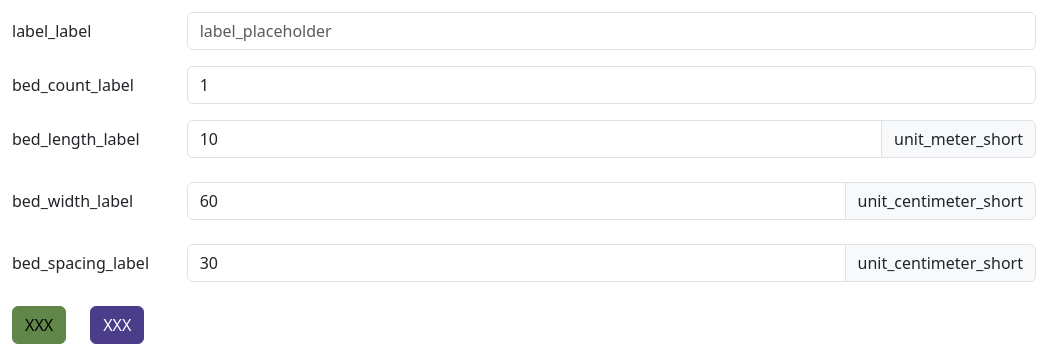
Button Group Editor › Bed length field › Limits value to one decimal on edit
Replace the text in the number field labelled "bed_length_label" with "24.12" at [534, 139], box [187,120,882,158]
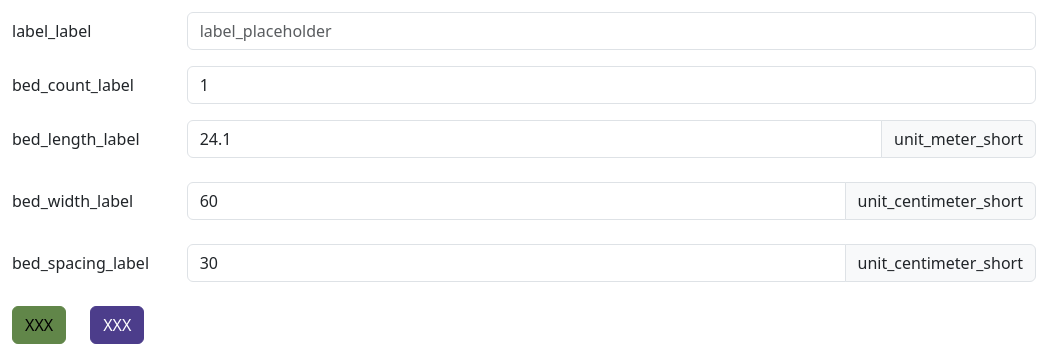
Result: the number field labelled "bed_length_label" holds "24.1" at [187,120,882,158]
